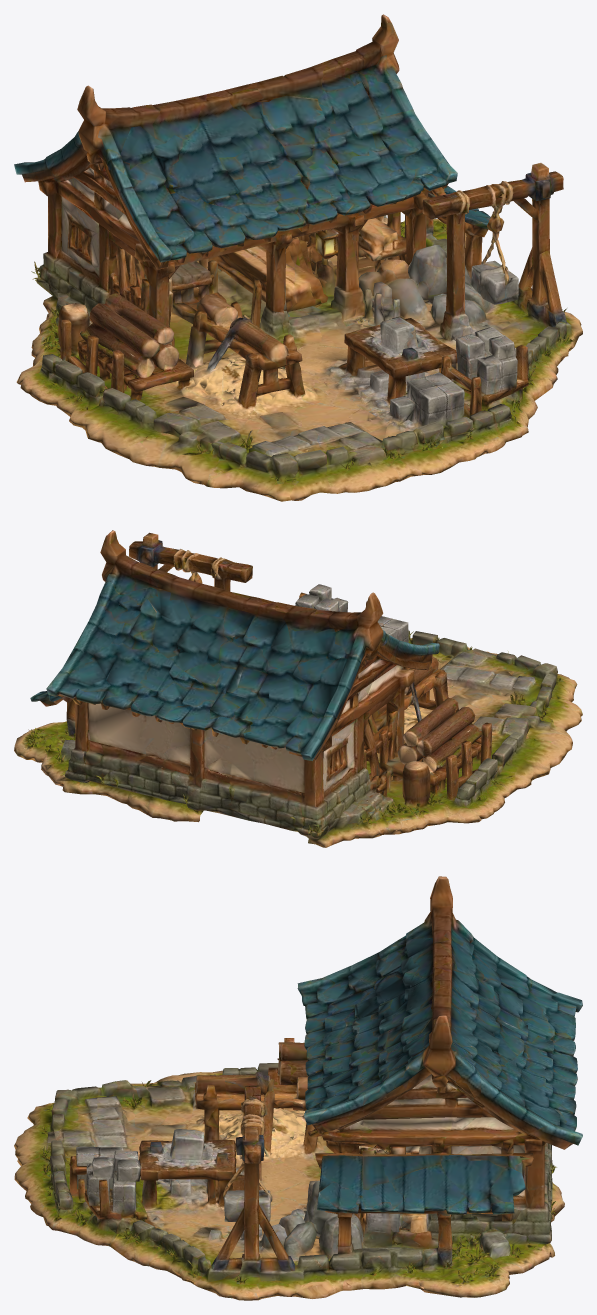
The model's file is house.glb.
The picture shows the model from 3 angles, top to bottom: view 1: azimuth 30°, elevation 25°; view 2: azimuth 150°, elevation 25°; view 3: azimuth 270°, elevation 25°; orthographic projection. The views are drawn at different scales.
Bounding box in the file's own units: 1.8 × 0.895 × 1.89.
Materials: 1 (1 with a texture image).
